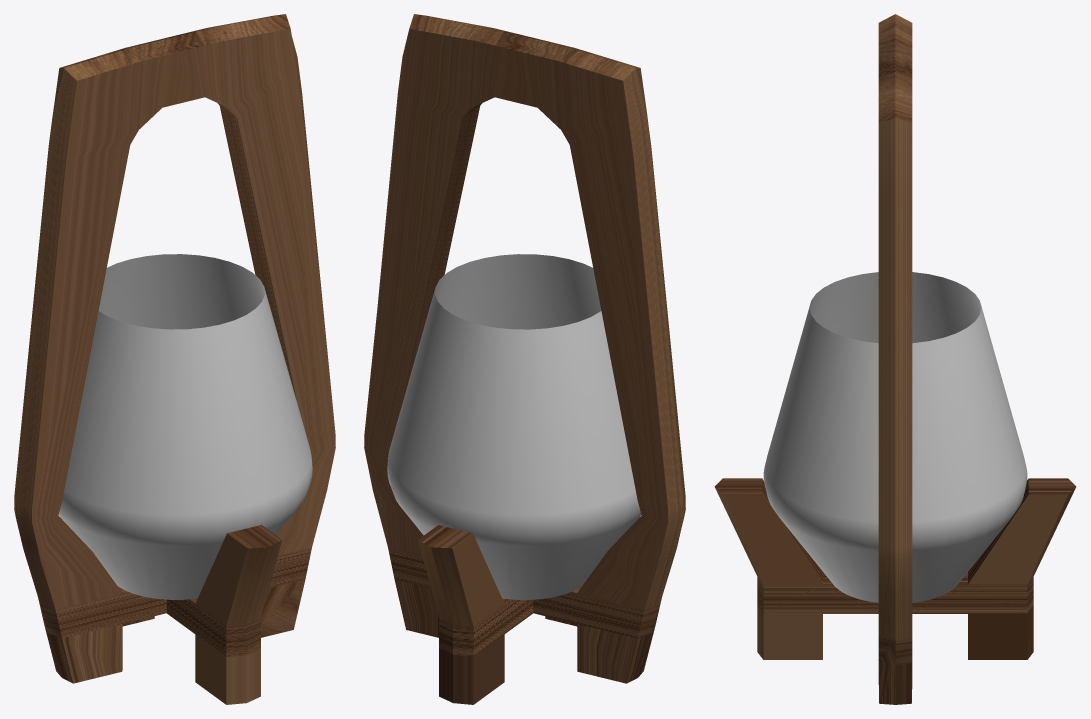
Rendered from Glass_Valve.fbx.
3 views of the same model, side by side, from view 1: azimuth 30°, elevation 25°; view 2: azimuth 150°, elevation 25°; view 3: azimuth 270°, elevation 25° (orthographic). The views are drawn at different scales.
Parts seen in each view (by area): view 1: Glass_Valve; view 2: Glass_Valve; view 3: Glass_Valve.
Part boxes in pixels (<box>): Glass_Valve: <box>14,14,335,704</box>; Glass_Valve: <box>364,14,685,704</box>; Glass_Valve: <box>714,14,1076,704</box>.
Bounding box in the file's own units: 46.85 × 86.23 × 47.97.
2 materials, 1 textured.
